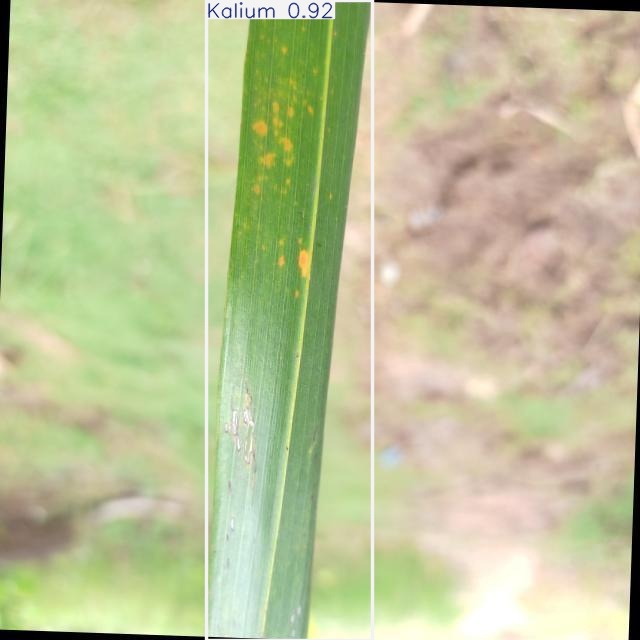Kalium: (206, 1, 372, 640)
